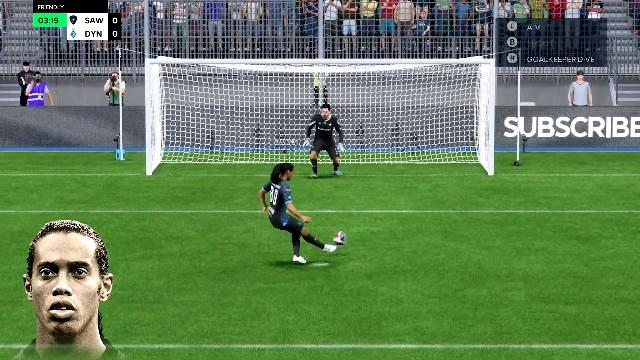bottom-left: (158, 126, 272, 176)
bottom-right: (375, 126, 489, 176)
center-down: (275, 127, 373, 177)
center-up: (274, 69, 370, 121)
football: (331, 231, 349, 244)
goalkeeper: (308, 89, 344, 179)
player: (260, 160, 326, 266)
top-left: (156, 67, 272, 121)
top-right: (374, 66, 490, 122)
